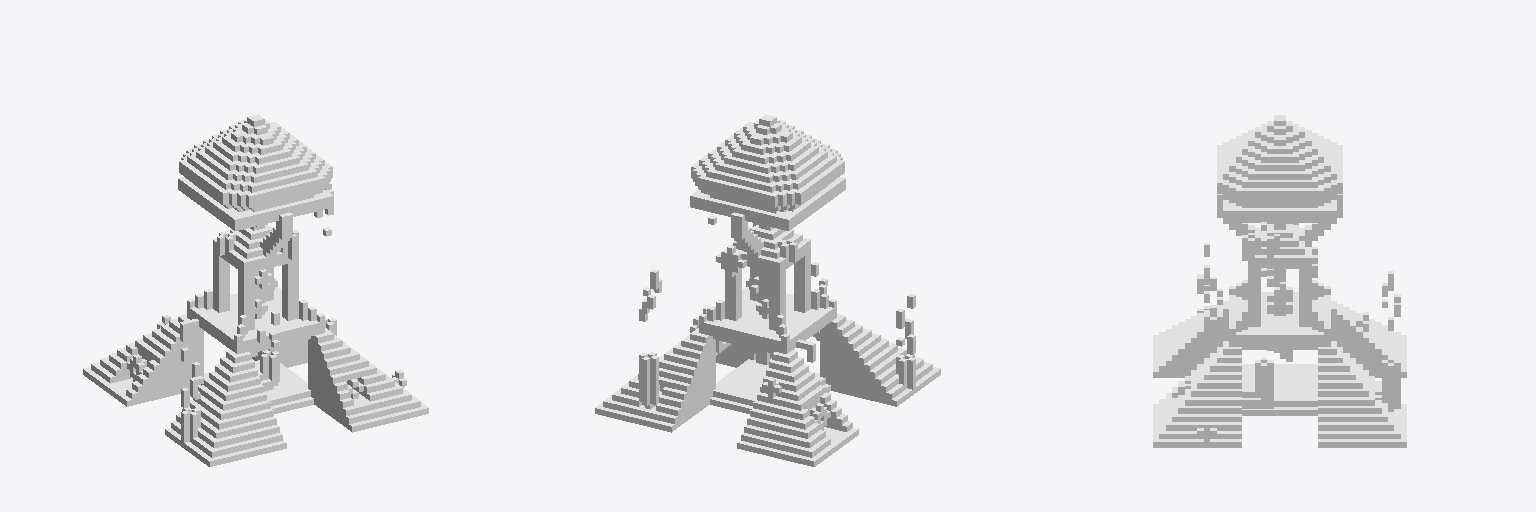
The model's file is B-Tower.obj.
The picture shows the model from 3 angles: view 1: azimuth 30°, elevation 25°; view 2: azimuth 150°, elevation 25°; view 3: azimuth 270°, elevation 25°; orthographic projection.
Parts seen in each view (by area): view 1: object 1; view 2: object 1; view 3: object 1.
Part boxes in pixels (bbox=[...]): object 1: bbox=[83, 114, 428, 466]; object 1: bbox=[595, 114, 940, 466]; object 1: bbox=[1153, 115, 1406, 447].
Bounding box in the file's own units: 4 × 4.8 × 4.